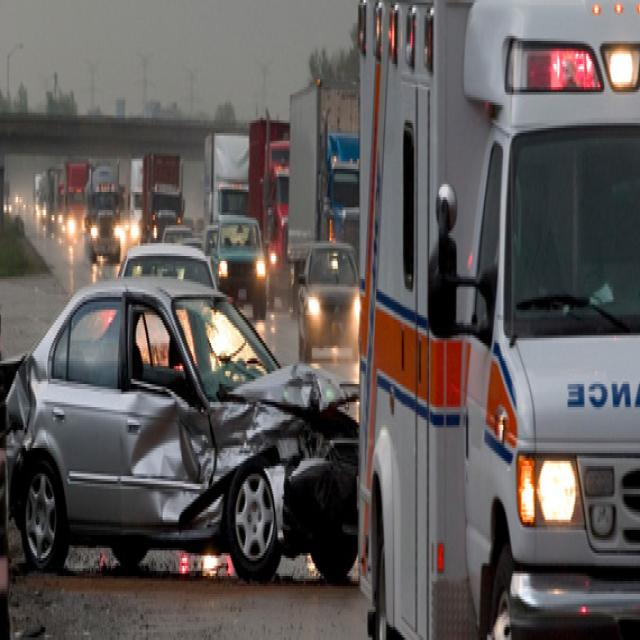Accident: (0, 251, 365, 624)
